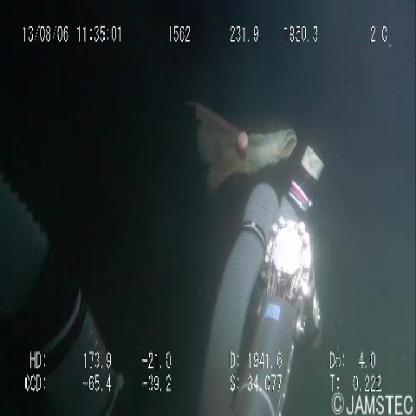Rov: (0, 124, 136, 414), (199, 134, 330, 415)
Rác: (185, 82, 300, 178)
